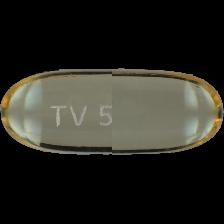0093-5401: (0, 0, 224, 224)
